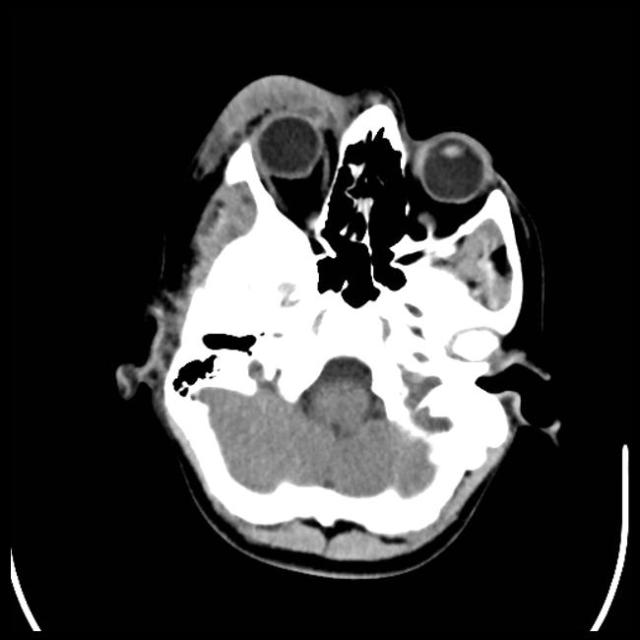lesion: (114, 71, 562, 576)
